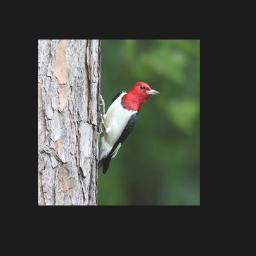Woodpecker: (95, 81, 163, 174)
